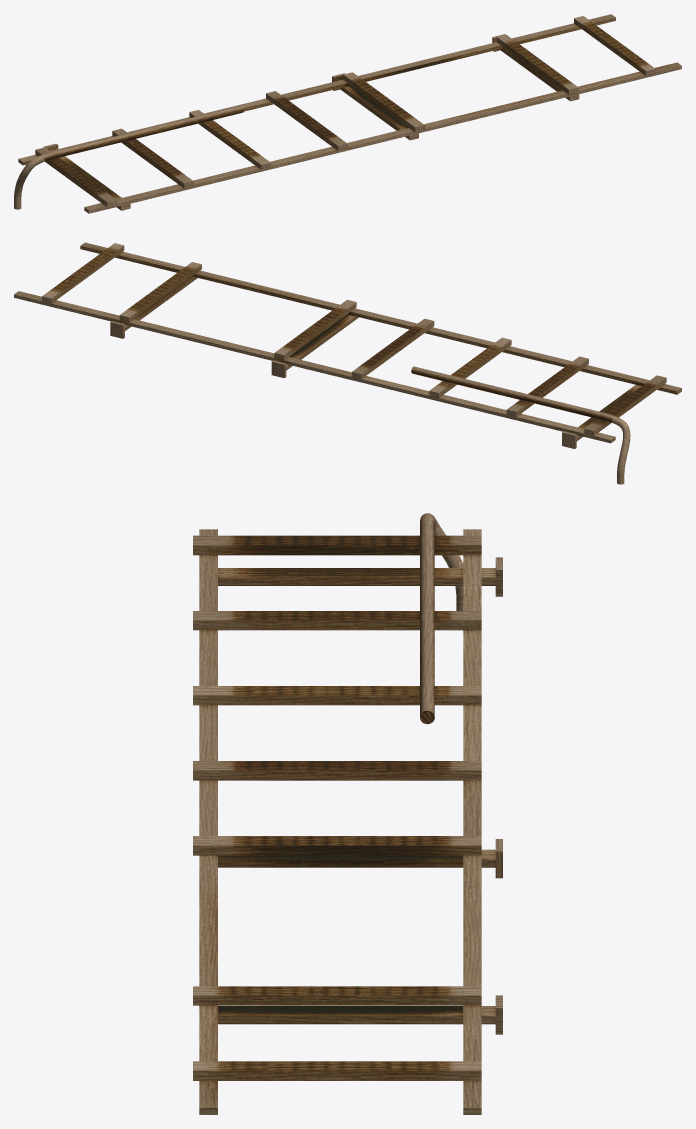
3 renders of one model, top to bottom at view 1: azimuth 30°, elevation 25°; view 2: azimuth 150°, elevation 25°; view 3: azimuth 270°, elevation 25°, orthographic. The views are drawn at different scales.
Parts seen in each view (by area): view 1: 6_上支架（支架部分）; view 2: 6_上支架（支架部分）; view 3: 6_上支架（支架部分）.
Part boxes in pixels (<box>): 6_上支架（支架部分）: <box>14,14,681,213</box>; 6_上支架（支架部分）: <box>14,242,681,484</box>; 6_上支架（支架部分）: <box>193,513,502,1114</box>.
Size of the model in its own units: 95.36 by 8.54 by 21.27.
Materials: 1 (1 with a texture image).
